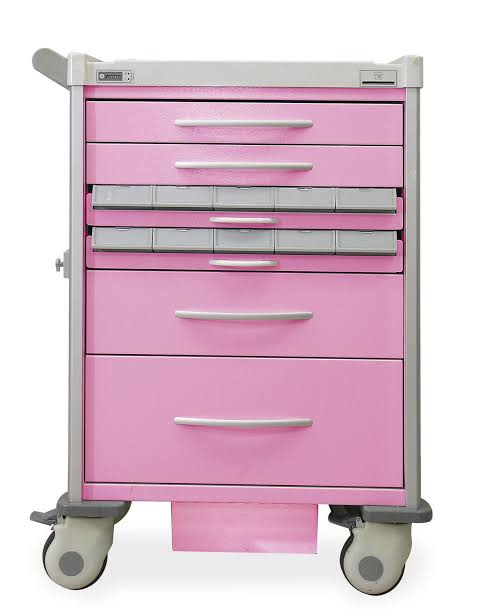Carts: (29, 44, 435, 593)
